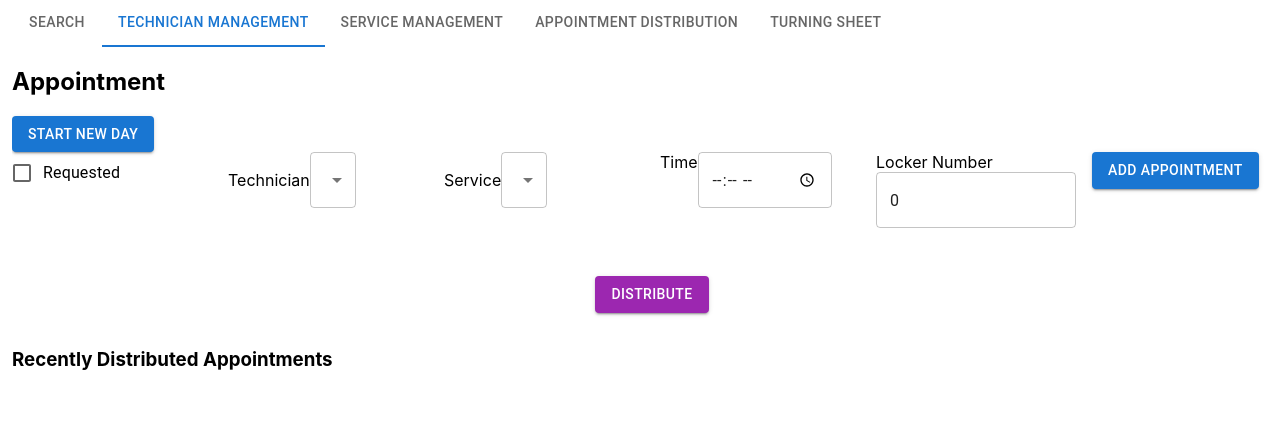
Scenario: <AppointmentDist /> › shows error when trying to add an appointment without selecting a service
Click the button "Add Appointment".
click(1175, 171)  # box [1092, 152, 1259, 189]
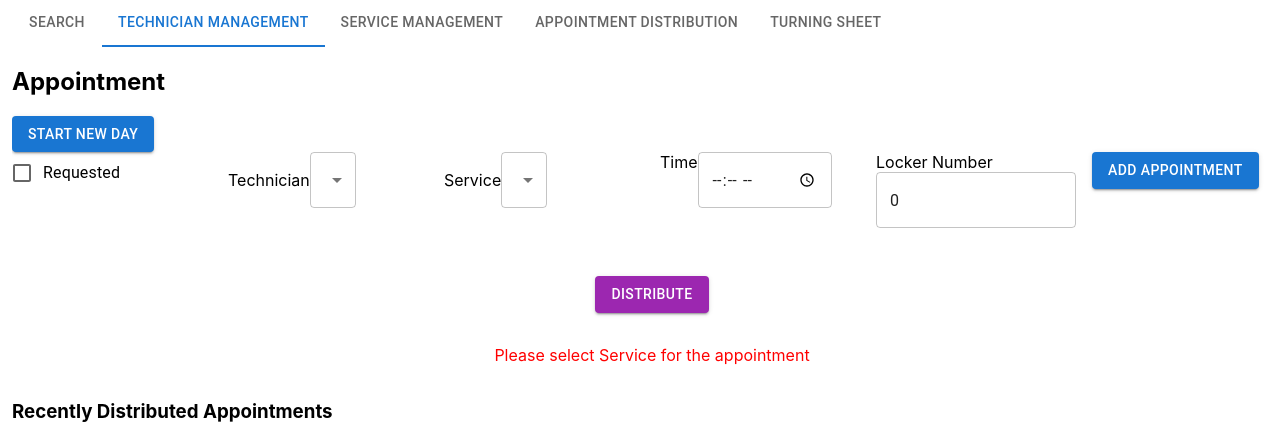
Check: the text "Please select Service for the appointment" is shown, box [494, 345, 810, 365]
